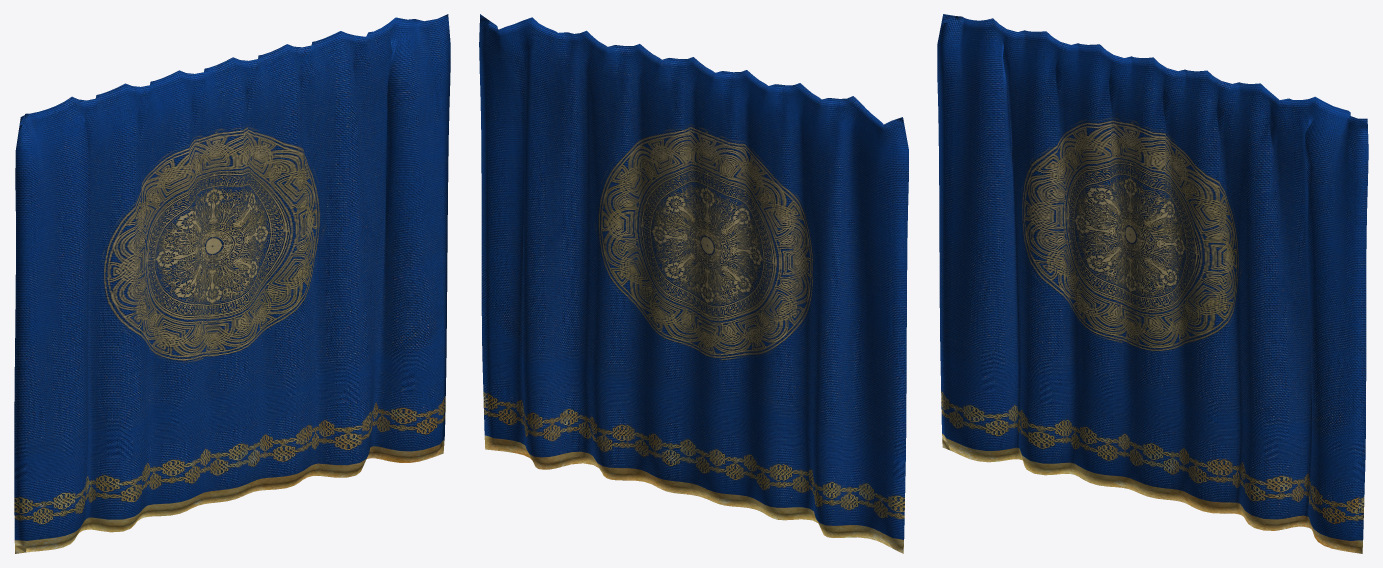
Rendered from 1017sponzaCurtain.glb.
3 renders of one model, left to right at view 1: azimuth 30°, elevation 25°; view 2: azimuth 150°, elevation 25°; view 3: azimuth 330°, elevation 25°, orthographic.
Visible parts, largest first — view 1: Mesh_0.018; view 2: Mesh_0.018; view 3: Mesh_0.018.
Boxes of the visible parts, box(x1,y1,x2,y2) form: Mesh_0.018: box(14, 14, 450, 553); Mesh_0.018: box(479, 14, 908, 553); Mesh_0.018: box(937, 14, 1368, 553).
Size of the model in its own units: 2.3 by 2.26 by 0.1966.
Materials: 1 (1 with a texture image).
